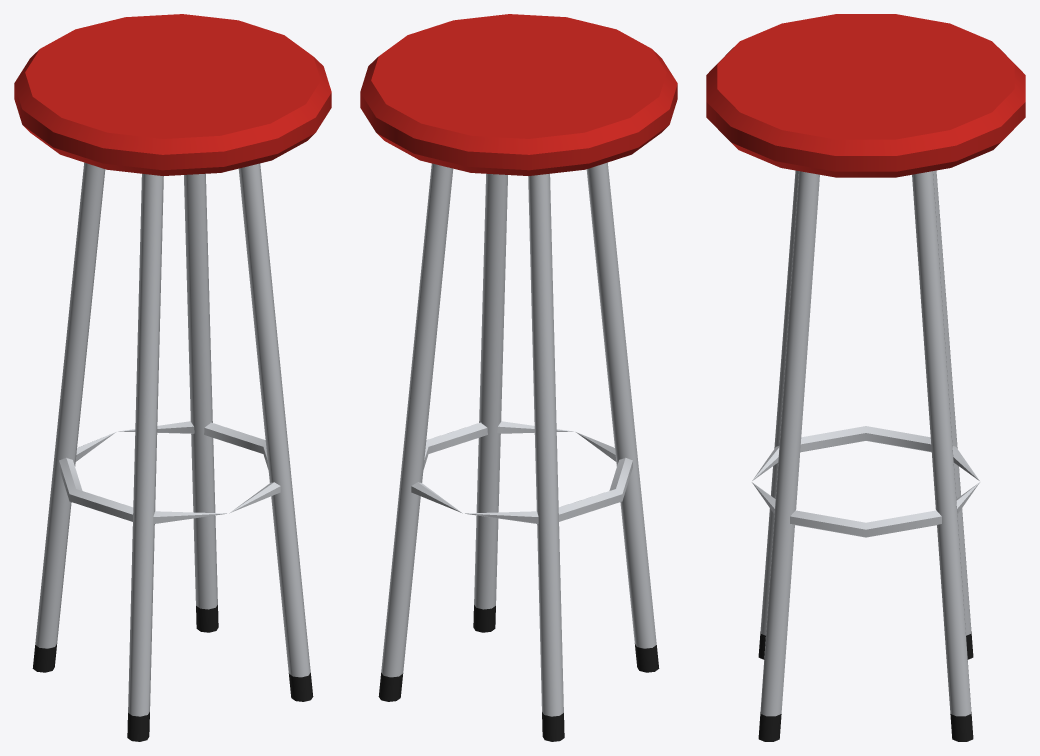
File: banqueta.glb
The picture shows the model from 3 angles, left to right: view 1: azimuth 30°, elevation 25°; view 2: azimuth 150°, elevation 25°; view 3: azimuth 270°, elevation 25°; orthographic projection. The views are drawn at different scales.
Parts seen in each view (by area): view 1: banqueta_cuerpo, pieza_pintura; view 2: banqueta_cuerpo, pieza_pintura; view 3: pieza_pintura, banqueta_cuerpo.
Boxes of the visible parts, x1,y1,x2,y2 form: banqueta_cuerpo: (32,162,313,741); pieza_pintura: (14,14,331,175); banqueta_cuerpo: (378,162,659,741); pieza_pintura: (360,14,677,175); pieza_pintura: (706,14,1025,177); banqueta_cuerpo: (752,170,979,741).
Size of what is drawn, in the model's own units: 0.35 by 0.75 by 0.35.
